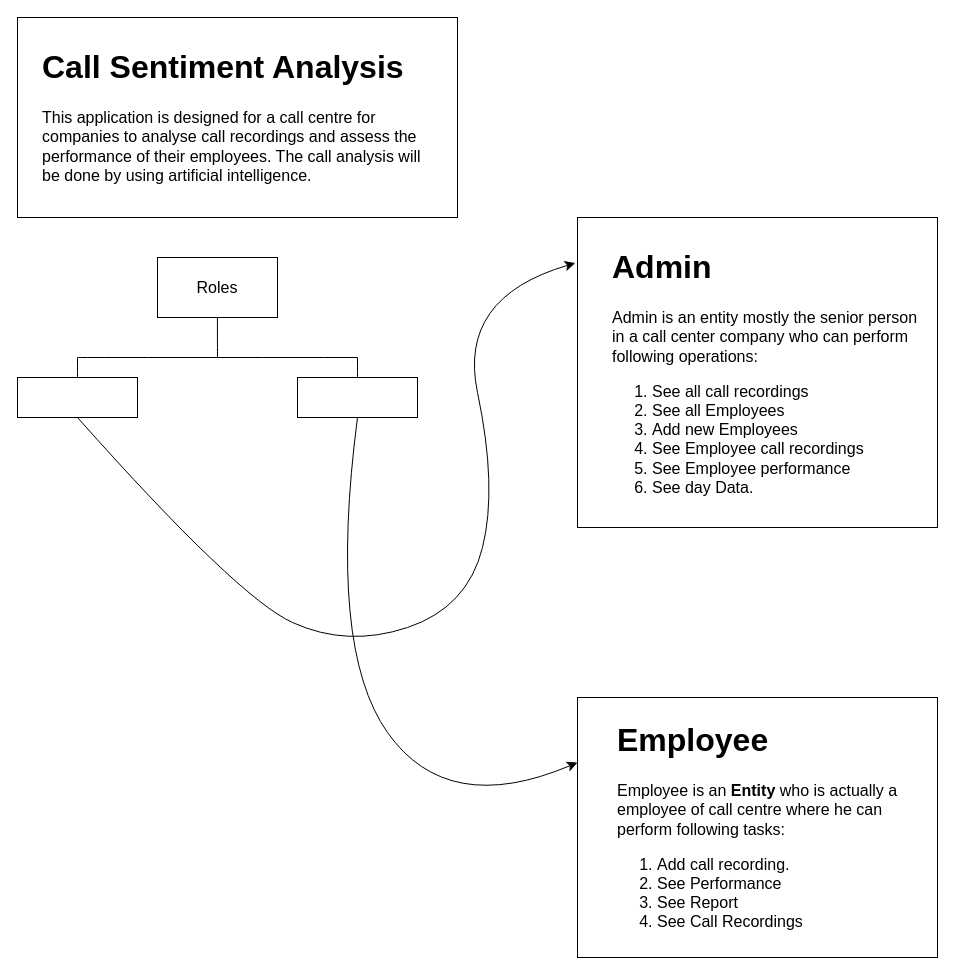
The diagram is 955 pixels wide and 975 high, and some of its shapes have lost their labels. The shapes that lost their labels are listed below. From the top down, each one's box as (x1, y1, x2, y2) in pixels, then its label:
(16, 376, 138, 418): Admin
(296, 376, 418, 418): Employee
